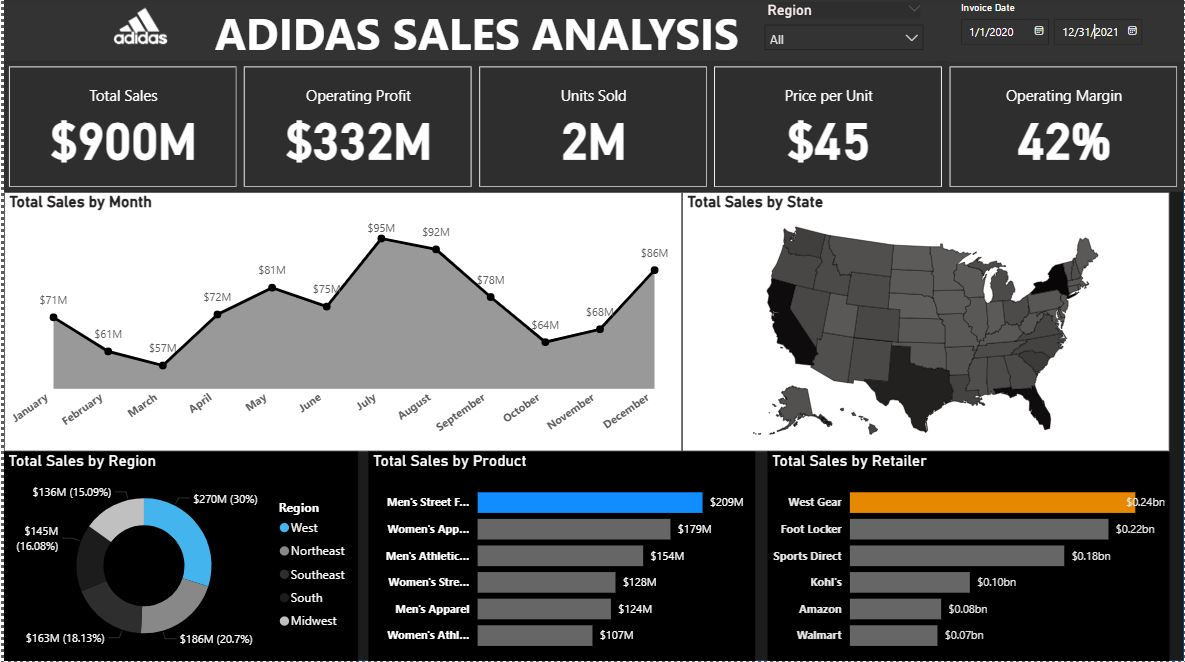

Layout of this report page (visuals, bound fields, positions):
{"tool":"powerbi","page":{"name":"Page 1","canvas":[1280,720],"ordinal":0},"visuals":[{"type":"shape","box":[0,0,1280.1,720.6],"z":0},{"type":"textbox","box":[0,0,1280.1,69.9],"z":1000},{"type":"cardVisual","fields":{"Data":["Sum(Data Sales Adidas.Total Sales)","Sum(Data Sales Adidas.Operating Profit)","Sum(Data Sales Adidas.Units Sold)","Avg(Data Sales Adidas.Price per Unit)","Avg(Data Sales Adidas.Operating Margin)"]},"box":[0,69.9,1280.1,141.5],"z":2000},{"type":"areaChart","title":"Total Sales by Month","fields":{"Category":["Data Sales Adidas.Invoice Date.Variation.Date Hierarchy.Month"],"Y":["Sum(Data Sales Adidas.Total Sales)"]},"box":[0,211.5,735.2,281.4],"z":3000},{"type":"shapeMap","title":"Total Sales by  State","fields":{"Value":["Sum(Data Sales Adidas.Total Sales)"],"Category":["Data Sales Adidas.State"]},"box":[735.2,211.5,528.6,281.4],"z":4000},{"type":"donutChart","title":" Total Sales by Region","fields":{"Category":["Data Sales Adidas.Region"],"Y":["Sum(Data Sales Adidas.Total Sales)"]},"box":[0,492.8,383.9,227.7],"z":5000},{"type":"barChart","title":" Total Sales by Product","fields":{"Category":["Data Sales Adidas.Product"],"Y":["Sum(Data Sales Adidas.Total Sales)"]},"box":[395.3,492.8,419.6,227.7],"z":6000},{"type":"barChart","title":"Total Sales by Retailer","fields":{"Category":["Data Sales Adidas.Retailer"],"Y":["Sum(Data Sales Adidas.Total Sales)"]},"box":[827.9,492.8,435.9,227.7],"z":7000},{"type":"slicer","fields":{"Values":["Data Sales Adidas.Region"]},"box":[814.9,0,191.9,69.9],"z":8000},{"type":"slicer","fields":{"Values":["Data Sales Adidas.Invoice Date"]},"box":[1024.7,0,255.4,69.9],"z":9000},{"type":"image","box":[79.7,0,136.6,69.9],"z":10000}]}

Visuals, with their boxes in screenshot pixels (x1, y1, x2, y2), scaled from the page's 1280x720 canvas onto the 1185x662 screenshot:
shape: left=0, top=0, right=1184, bottom=661
textbox: left=0, top=0, right=1184, bottom=64
cardVisual - Sum(Data Sales Adidas.Total Sales) x Sum(Data Sales Adidas.Operating Profit): left=0, top=64, right=1184, bottom=194
"Total Sales by Month" areaChart: left=0, top=194, right=681, bottom=453
"Total Sales by  State" shapeMap: left=681, top=194, right=1170, bottom=453
" Total Sales by Region" donutChart: left=0, top=453, right=355, bottom=661
" Total Sales by Product" barChart: left=366, top=453, right=754, bottom=661
"Total Sales by Retailer" barChart: left=766, top=453, right=1170, bottom=661
slicer - Data Sales Adidas.Region: left=754, top=0, right=932, bottom=64
slicer - Data Sales Adidas.Invoice Date: left=949, top=0, right=1184, bottom=64
image: left=74, top=0, right=200, bottom=64
